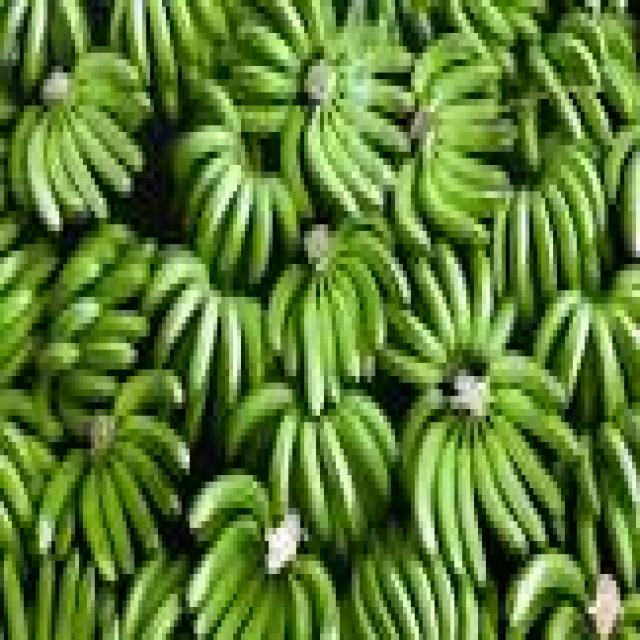banana: (482, 429, 549, 547), (506, 548, 588, 639), (494, 416, 564, 521), (186, 515, 260, 613), (475, 429, 529, 554), (317, 416, 367, 541), (332, 403, 391, 508), (301, 113, 359, 217), (419, 159, 489, 244), (494, 390, 576, 461), (324, 113, 383, 211), (186, 165, 244, 263), (194, 548, 256, 639), (68, 106, 130, 197), (107, 456, 161, 554), (526, 47, 584, 138), (36, 449, 86, 554), (123, 555, 185, 639), (60, 113, 110, 217), (226, 383, 292, 461), (411, 423, 450, 554), (190, 476, 268, 541), (332, 113, 395, 191), (119, 443, 181, 521), (143, 245, 209, 316), (435, 423, 466, 574), (411, 258, 458, 356), (455, 436, 485, 587), (297, 423, 335, 541), (348, 231, 410, 303), (214, 179, 256, 283), (490, 350, 564, 409), (170, 119, 237, 184), (324, 271, 363, 382), (76, 106, 142, 171), (80, 469, 118, 580), (119, 416, 189, 475), (340, 99, 410, 158), (506, 192, 537, 323), (344, 396, 399, 468), (411, 33, 478, 92), (48, 113, 86, 217), (542, 179, 580, 283), (186, 297, 221, 409), (155, 284, 205, 362), (28, 119, 63, 230), (281, 106, 316, 217), (376, 555, 422, 639), (111, 370, 185, 422), (427, 60, 501, 112), (388, 304, 446, 369), (99, 469, 134, 574), (8, 106, 43, 211), (435, 245, 470, 349), (593, 311, 628, 415), (597, 423, 639, 508), (147, 0, 177, 118), (392, 159, 430, 250), (554, 304, 592, 395), (301, 284, 327, 415), (111, 0, 150, 85), (360, 555, 399, 639), (534, 291, 580, 362), (269, 410, 300, 514), (238, 20, 300, 72), (265, 179, 304, 257), (261, 0, 312, 59), (530, 192, 557, 303), (230, 60, 296, 105), (601, 126, 639, 204), (403, 555, 438, 639), (218, 297, 244, 409), (20, 0, 51, 92), (546, 33, 600, 85), (249, 179, 276, 283), (573, 86, 616, 151), (380, 344, 442, 389), (238, 297, 268, 389), (605, 502, 636, 587), (317, 284, 339, 402), (471, 251, 497, 349), (166, 0, 205, 65), (52, 555, 82, 639), (0, 456, 35, 527), (601, 60, 639, 125), (561, 7, 608, 59), (467, 0, 517, 46), (482, 297, 517, 362), (0, 555, 27, 639), (431, 555, 458, 639), (621, 152, 639, 257), (80, 337, 138, 369), (72, 568, 98, 639), (32, 561, 55, 639), (143, 594, 181, 639), (455, 575, 481, 639), (546, 601, 588, 639), (289, 575, 312, 639)
